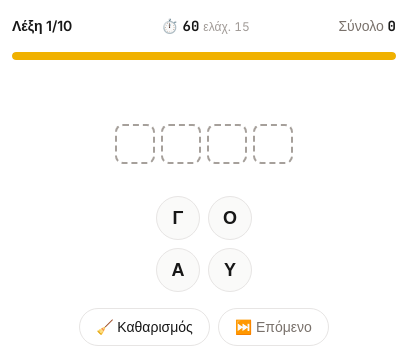
it: LeksodromiaBoard › a wrong word auto-submits, shows an error, clears the input, and stays put
Click the button "γ".
click(178, 218)  # box [156, 196, 200, 240]
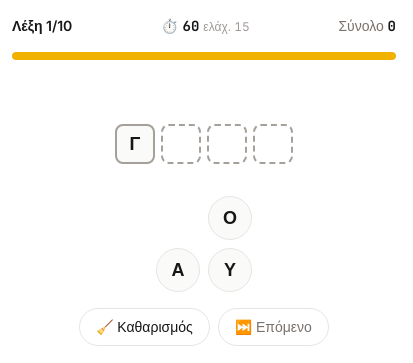
Click the button "ο".
click(230, 218)  # box [208, 196, 252, 240]
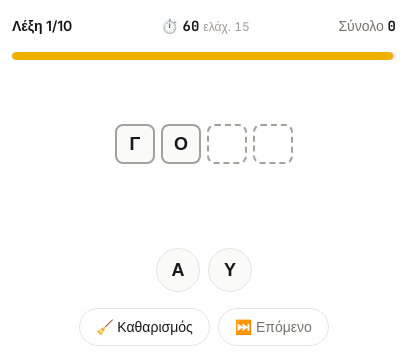
Click the button "α".
click(178, 270)  # box [156, 248, 200, 292]
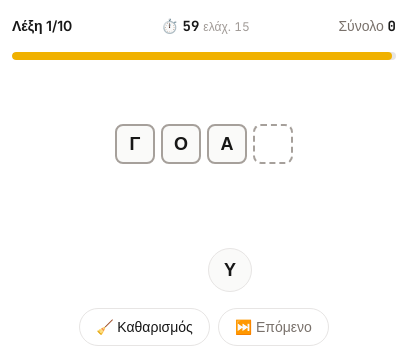
Click the button "υ".
click(230, 270)  # box [208, 248, 252, 292]
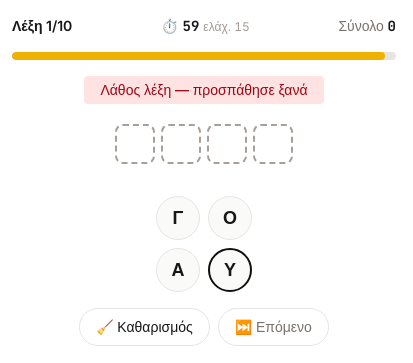
Expected: the text "Λέξη 1/10" is shown, [12, 16, 72, 36]
Result: the text "Λάθος λέξη — προσπάθησε ξανά" is shown at [84, 76, 324, 104]
Result: the button with test id "answer-row" is empty at [115, 124, 293, 164]
